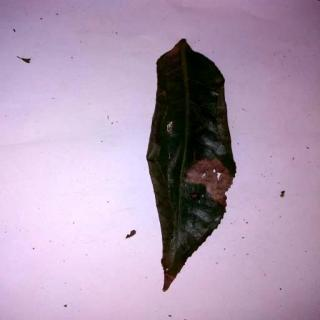Anthracnose: (146, 37, 236, 295)
